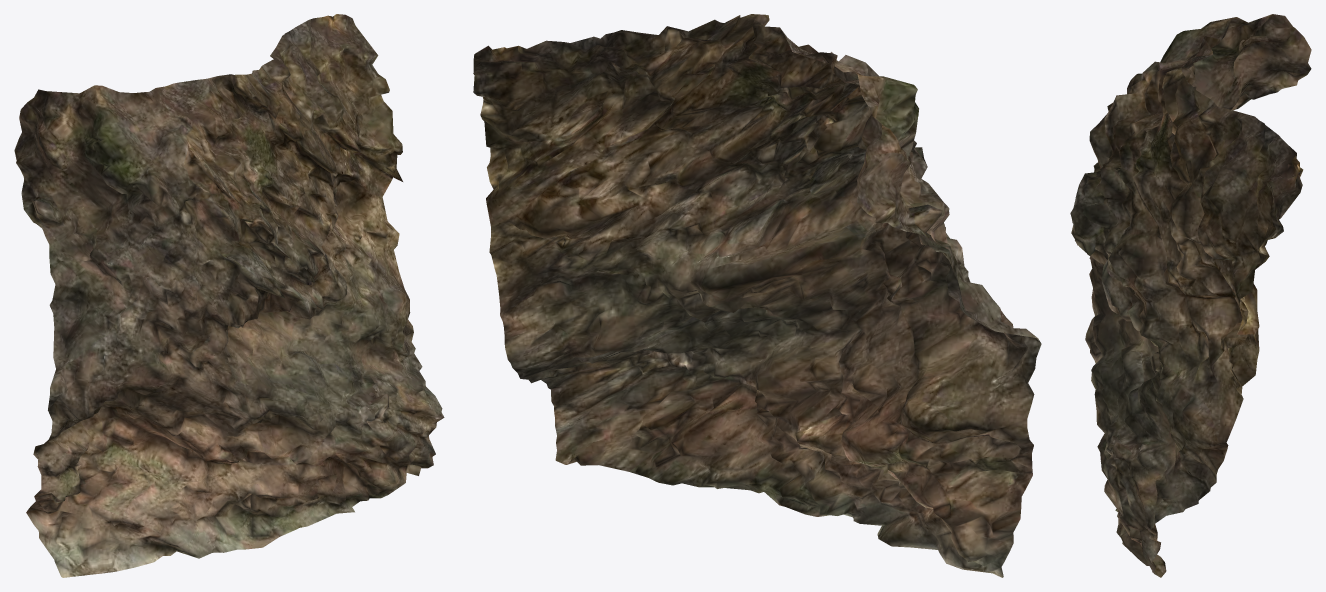
File: mountainside.glb
3 views of the same model, side by side, from view 1: azimuth 30°, elevation 25°; view 2: azimuth 150°, elevation 25°; view 3: azimuth 270°, elevation 25° (orthographic). The views are drawn at different scales.
Parts seen in each view (by area): view 1: mountainside; view 2: mountainside; view 3: mountainside.
Boxes of the visible parts, x1,y1,x2,y2 form: mountainside: [14, 14, 444, 577]; mountainside: [473, 14, 1041, 577]; mountainside: [1070, 14, 1311, 577].
Bounding box in the file's own units: 10.2 × 10.52 × 5.25.
Materials: 1 (1 with a texture image).
